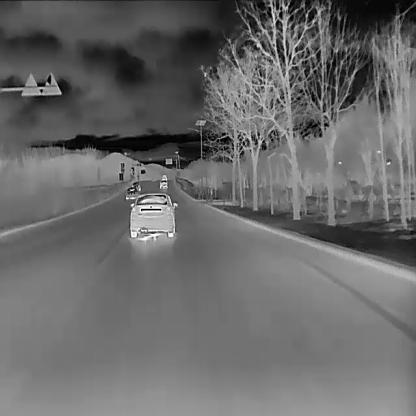car: (129, 191, 178, 237), (125, 186, 138, 200), (159, 178, 168, 188), (132, 181, 140, 190), (160, 173, 166, 180)
